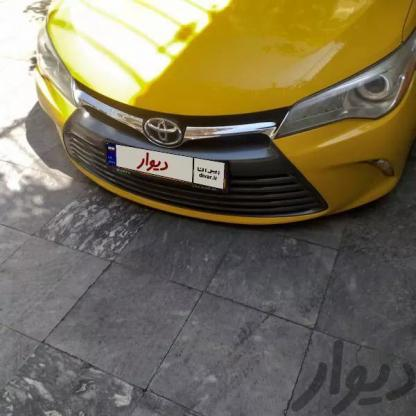Car: (0, 0, 416, 266)
